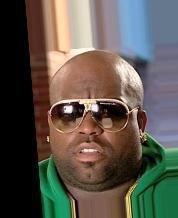face: (50, 104, 124, 164)
